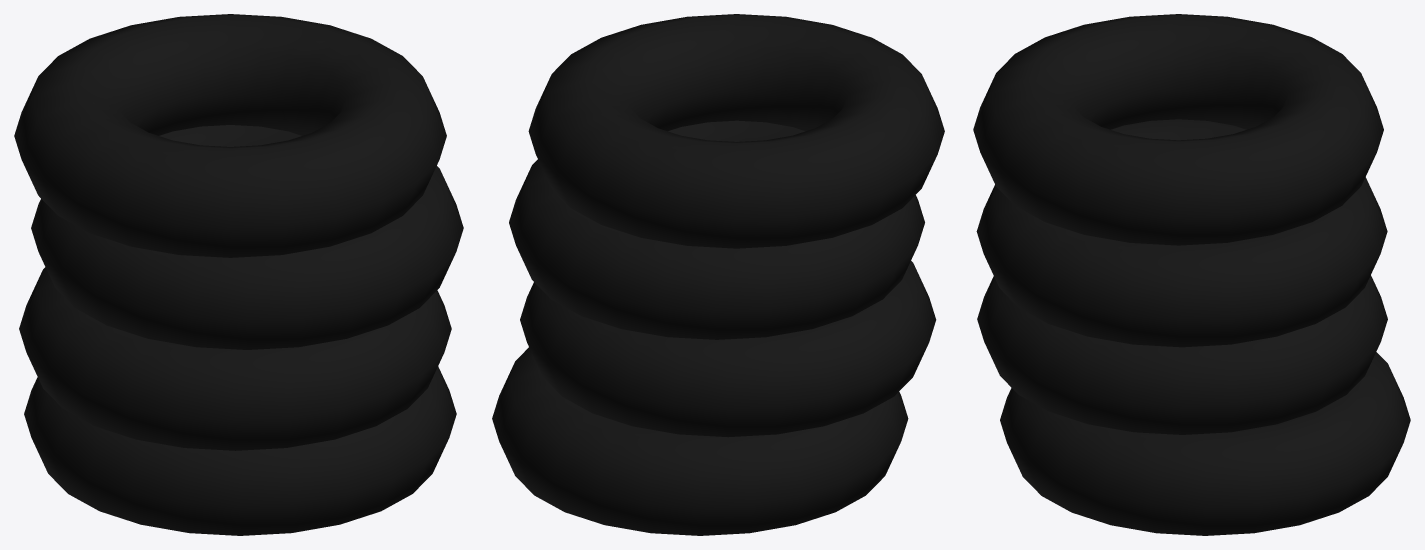
The model's file is tire.glb.
3 renders of one model, left to right at view 1: azimuth 30°, elevation 25°; view 2: azimuth 150°, elevation 25°; view 3: azimuth 270°, elevation 25°, orthographic. The views are drawn at different scales.
Visible parts, largest first — view 1: Torus; view 2: Torus; view 3: Torus.
Boxes of the visible parts, bbox=[...] form: Torus: bbox=[14, 14, 463, 535]; Torus: bbox=[492, 14, 944, 535]; Torus: bbox=[973, 14, 1410, 535].
Size of the model in its own units: 1.04 by 1 by 1.04.
1 material, 1 textured.
